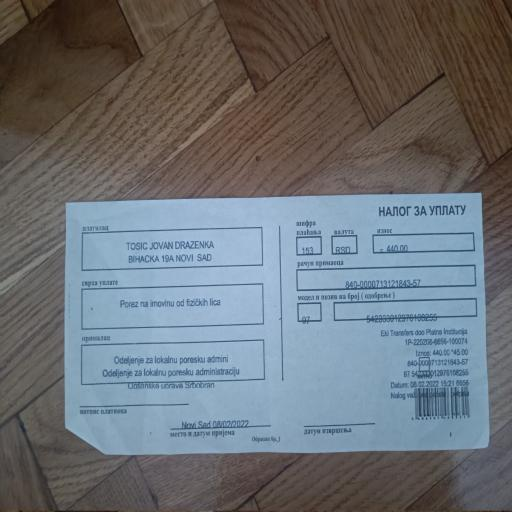svrha_uplate: (82, 278, 268, 324)
uplatnica: (292, 217, 480, 329)
